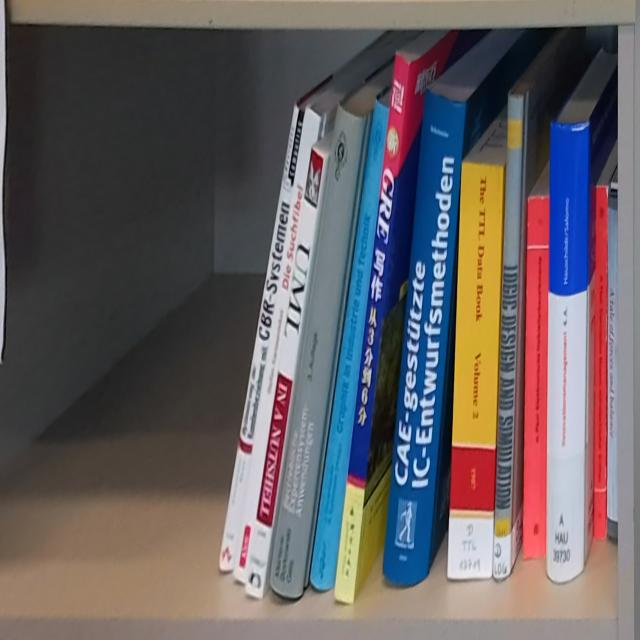Book Spine: (269, 104, 366, 597), (232, 104, 323, 585), (333, 53, 410, 604), (382, 87, 466, 588), (217, 102, 304, 574), (310, 95, 388, 591), (246, 147, 324, 598), (448, 165, 504, 579), (546, 119, 590, 584), (493, 93, 524, 581), (524, 197, 549, 561), (594, 186, 608, 539), (608, 185, 618, 541)
